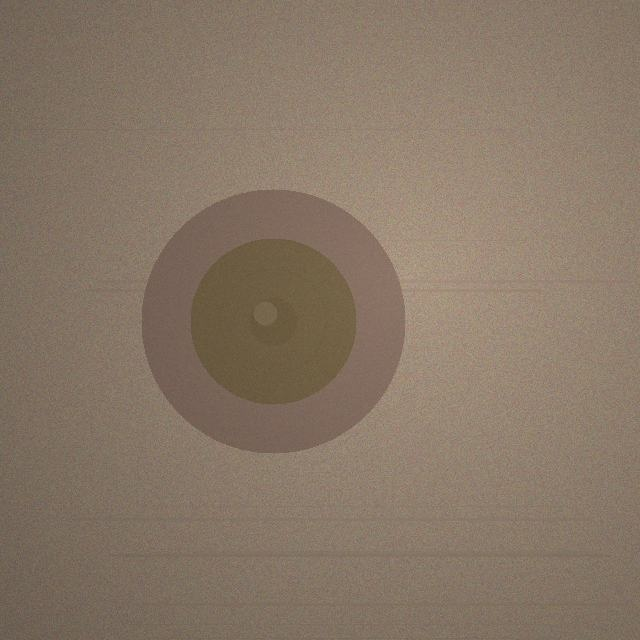good: (141, 189, 405, 453)
